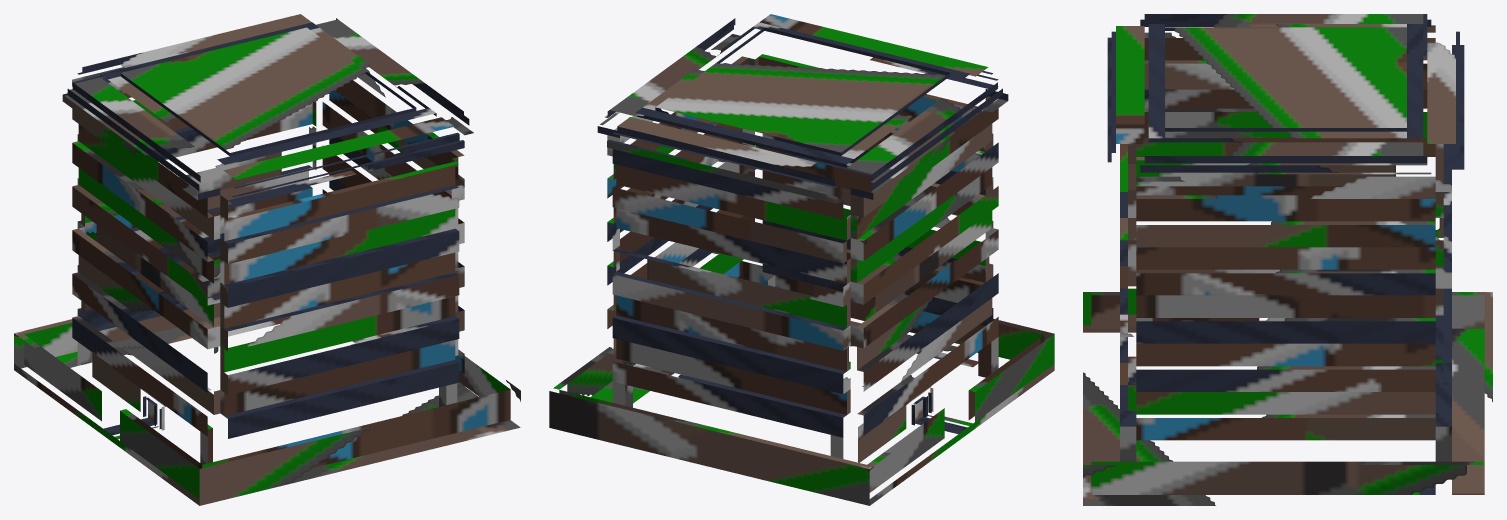
File: Casa6.fbx
The picture shows the model from 3 angles, left to right: view 1: azimuth 30°, elevation 25°; view 2: azimuth 150°, elevation 25°; view 3: azimuth 270°, elevation 25°; orthographic projection. The views are drawn at different scales.
Visible parts, largest first — view 1: Casa2; view 2: Casa2; view 3: Casa2.
Part boxes in pixels (x1=…): Casa2: x1=14, y1=14, x2=520, y2=505; Casa2: x1=549, y1=14, x2=1054, y2=505; Casa2: x1=1083, y1=14, x2=1492, y2=505.
Bounding box in the file's own units: 100 × 92 × 100.
